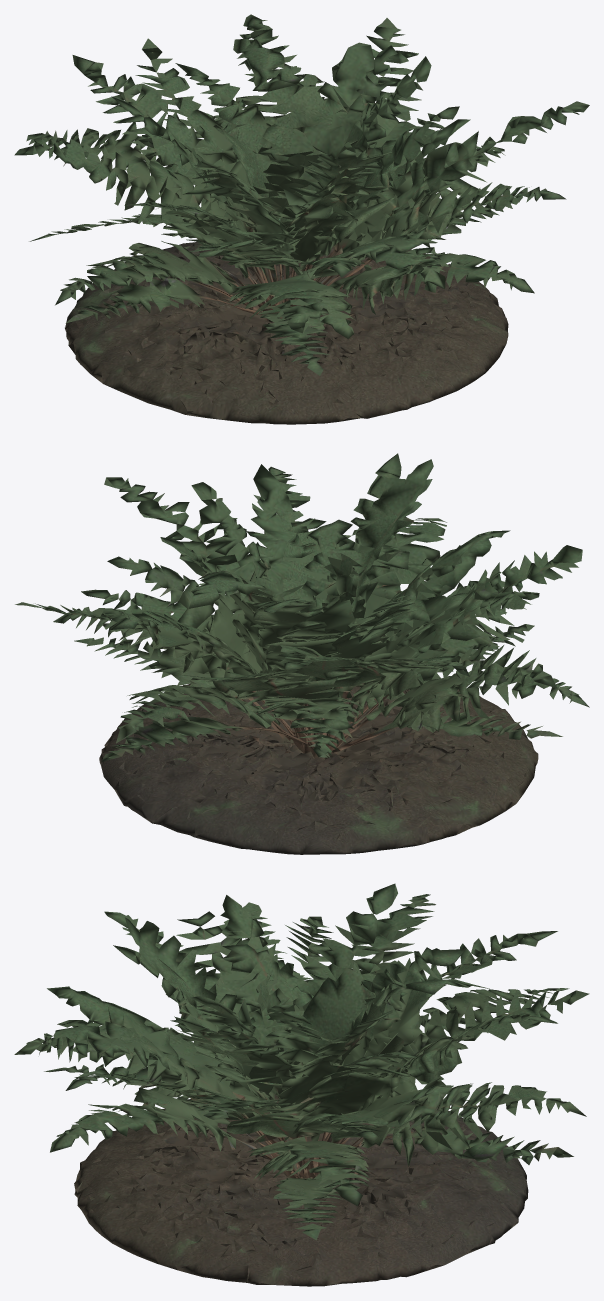
File: groundcover_textured_01.glb
The picture shows the model from 3 angles, top to bottom: view 1: azimuth 30°, elevation 25°; view 2: azimuth 150°, elevation 25°; view 3: azimuth 270°, elevation 25°; orthographic projection. The views are drawn at different scales.
Bounding box in the file's own units: 2 × 0.9921 × 1.89.
1 material, 1 textured.
